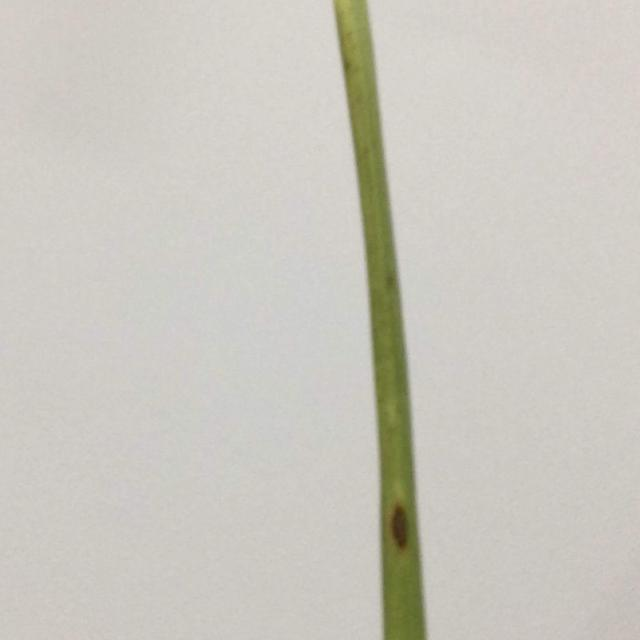Blast: (393, 504, 411, 550)
